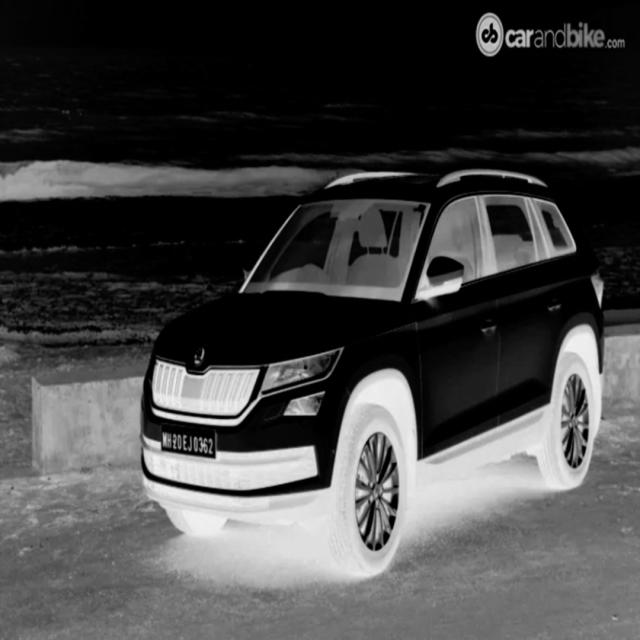Non_registered: (157, 422, 219, 458)
